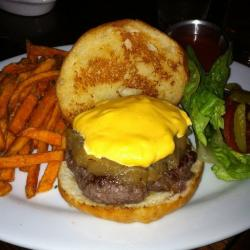burger: (54, 19, 198, 215)
fries: (3, 52, 64, 193)
salad: (187, 53, 229, 144)
